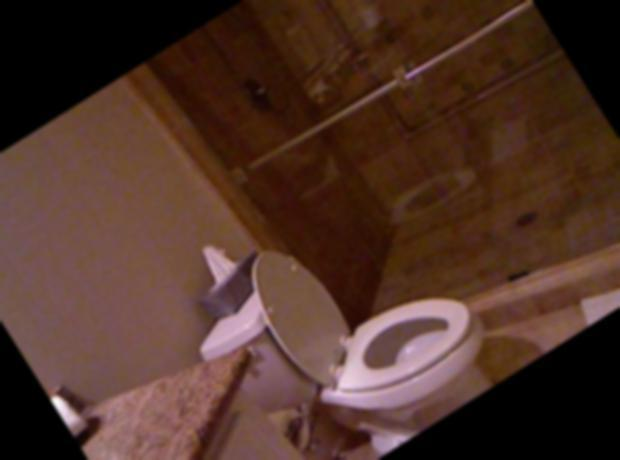Ducha: (143, 0, 620, 435)
Sanitario: (173, 176, 514, 460)
